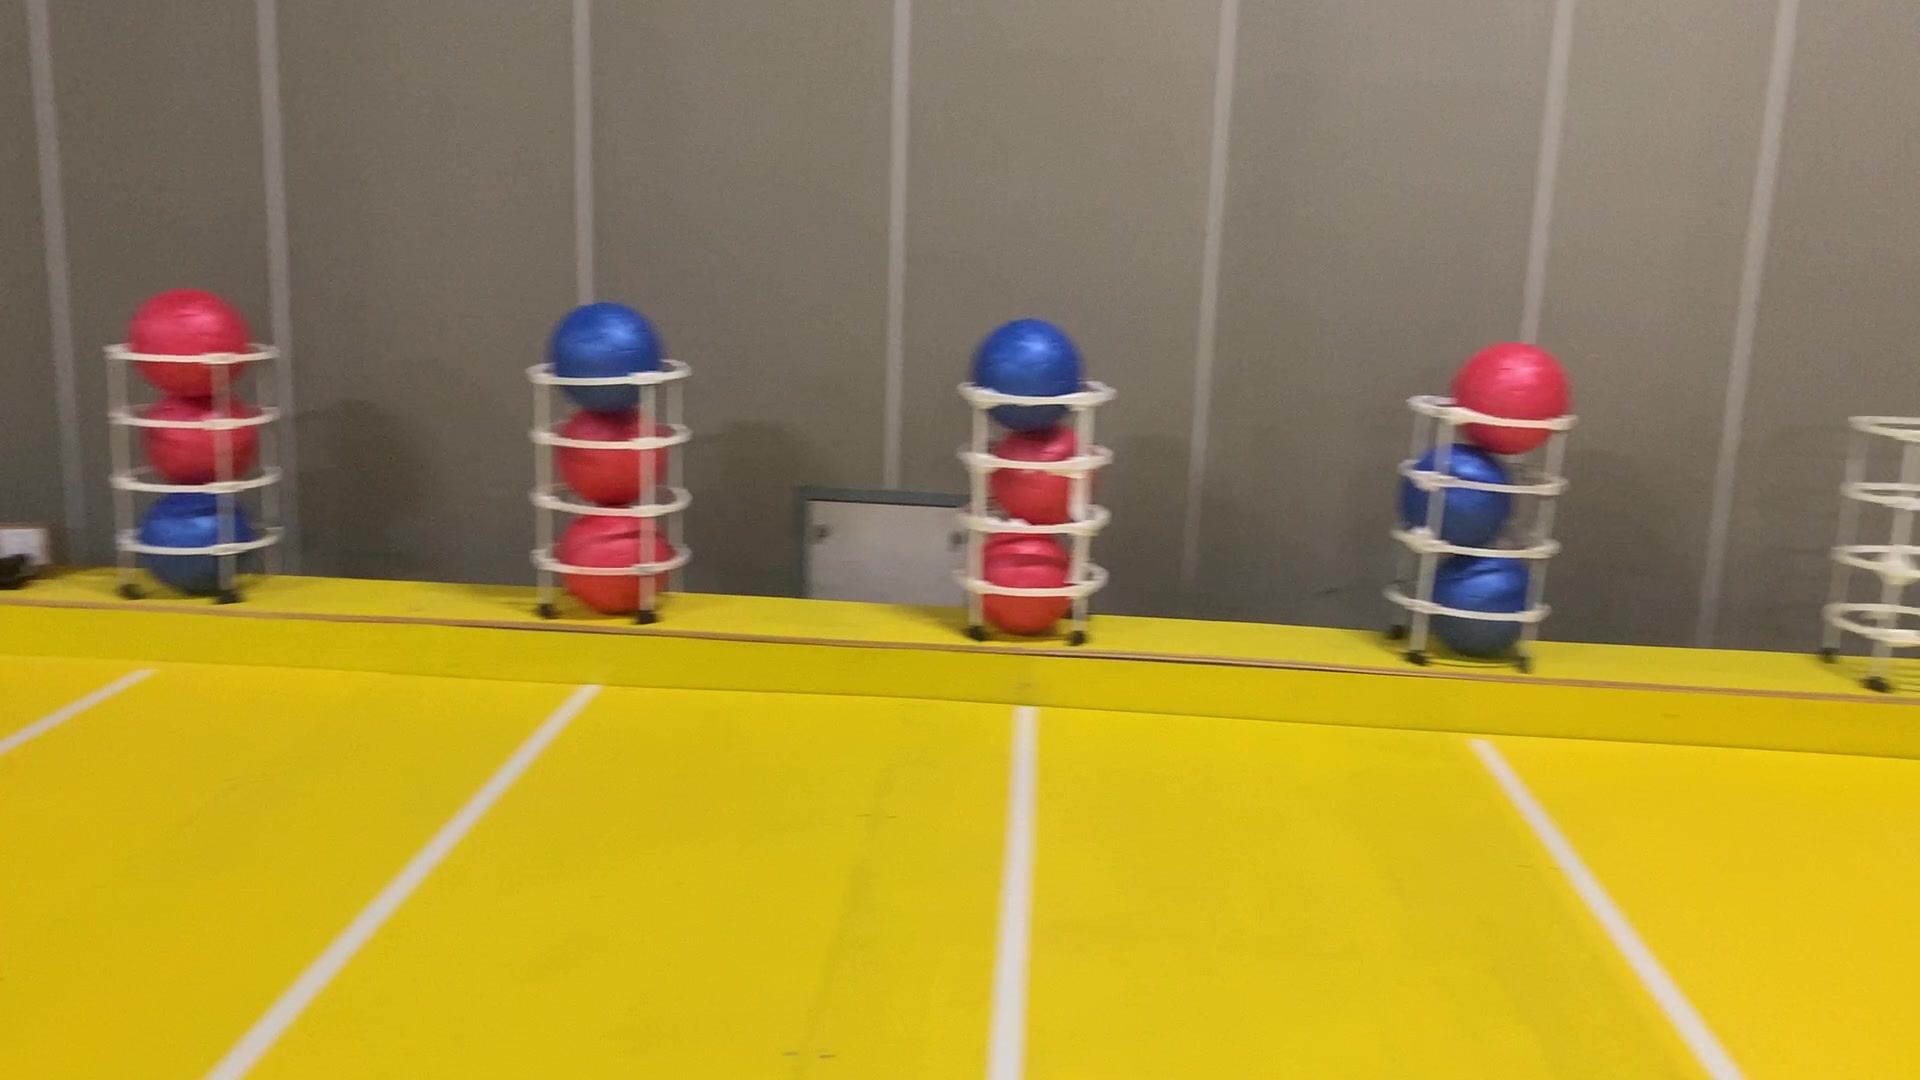blue: (1393, 427, 1513, 553), (1418, 537, 1543, 655), (543, 301, 671, 417), (967, 307, 1088, 426), (144, 480, 257, 596)
red: (125, 282, 251, 398), (1453, 330, 1572, 451), (972, 418, 1101, 527), (976, 524, 1089, 644), (562, 508, 680, 617), (144, 385, 255, 492), (558, 401, 674, 502)
